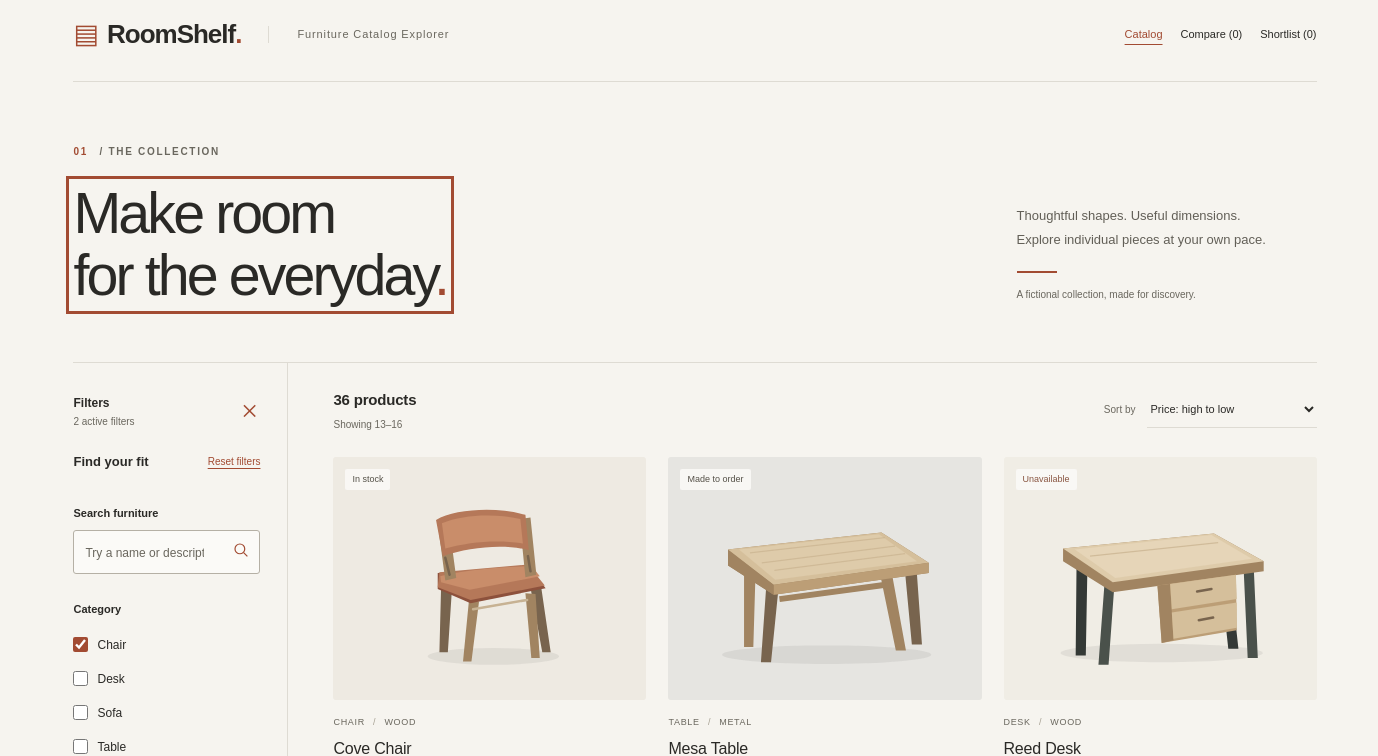
product details › renders every specification and returns to the exact filtered catalog URL
Step 1. Click the link "Cove Chair" → (372, 748), box [334,740,412,755]
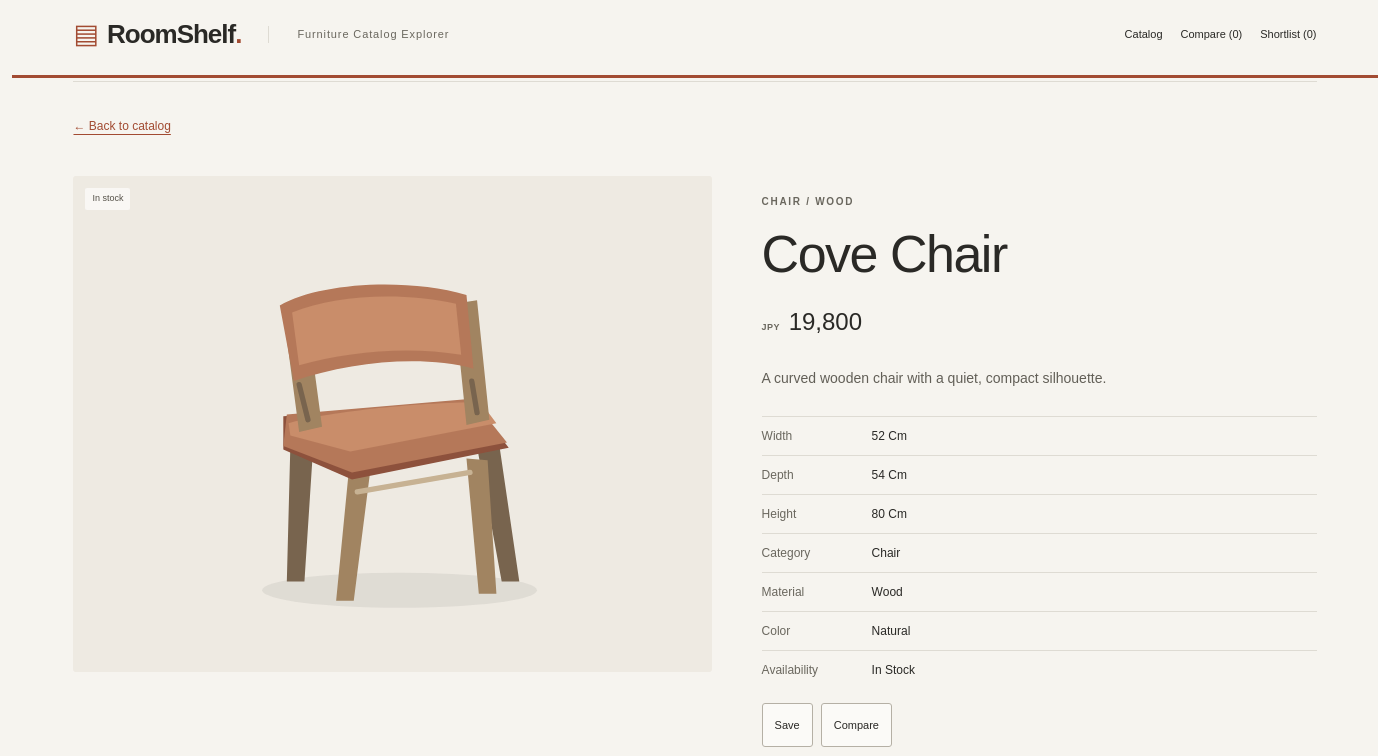
Expected: the text "A curved wooden chair with a quiet, compact silhouette." is shown, [762,370,1106,386]
Expected: the text "52 cm" is shown, [872,430,907,444]
Expected: the text "54 cm" is shown, [872,468,907,482]
Step 2. Click the link "← Back to catalog" → (122, 126), box [74,119,171,133]
(page scrolled)
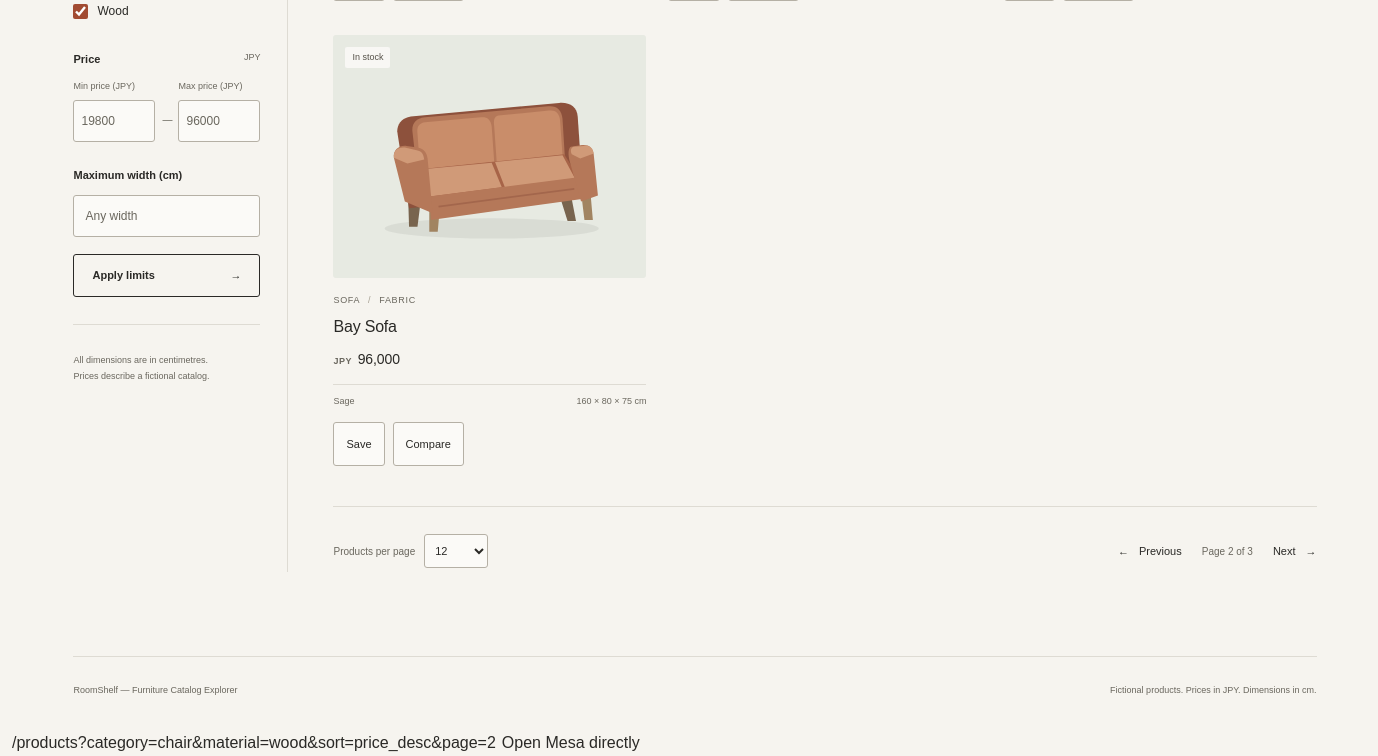
Expected: the text named "Current location" reads "/products?category=chair&material=wood&sort=price_desc&page=2", [12,734,496,750]
Expected: the text "Page 2 of 3" is shown, [1202,544,1253,558]
